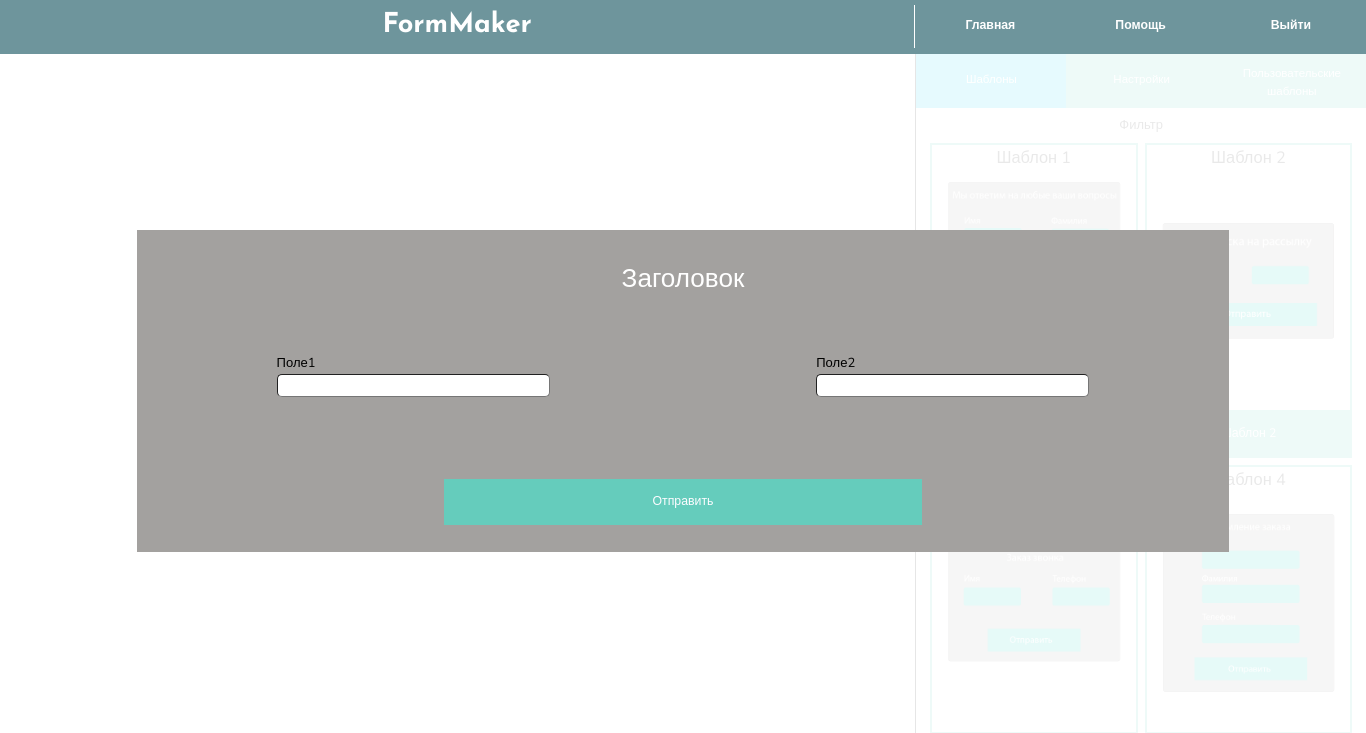
Test: header › logout test
Click the text "Выйти" at (1291, 26), box [1271,20,1311,32]
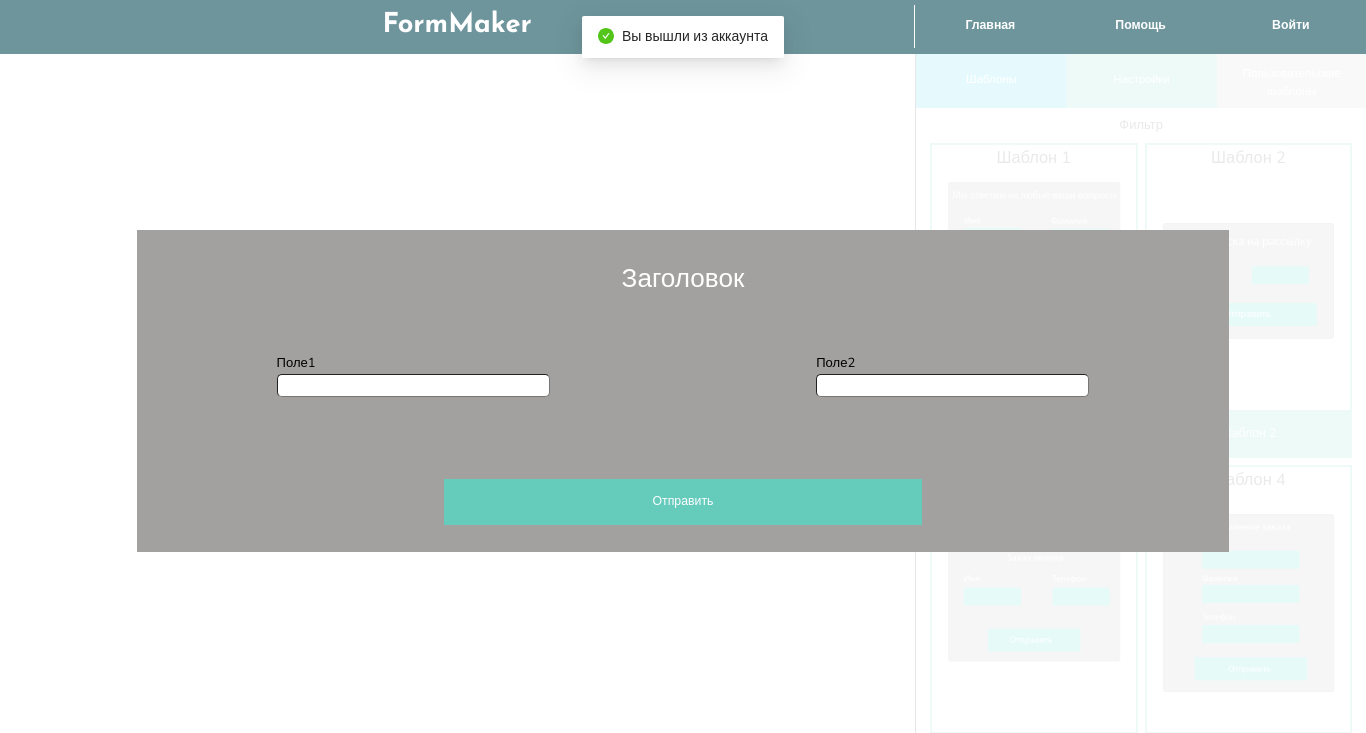
Expected: the link "Войти" is shown, [1272,20,1310,32]
